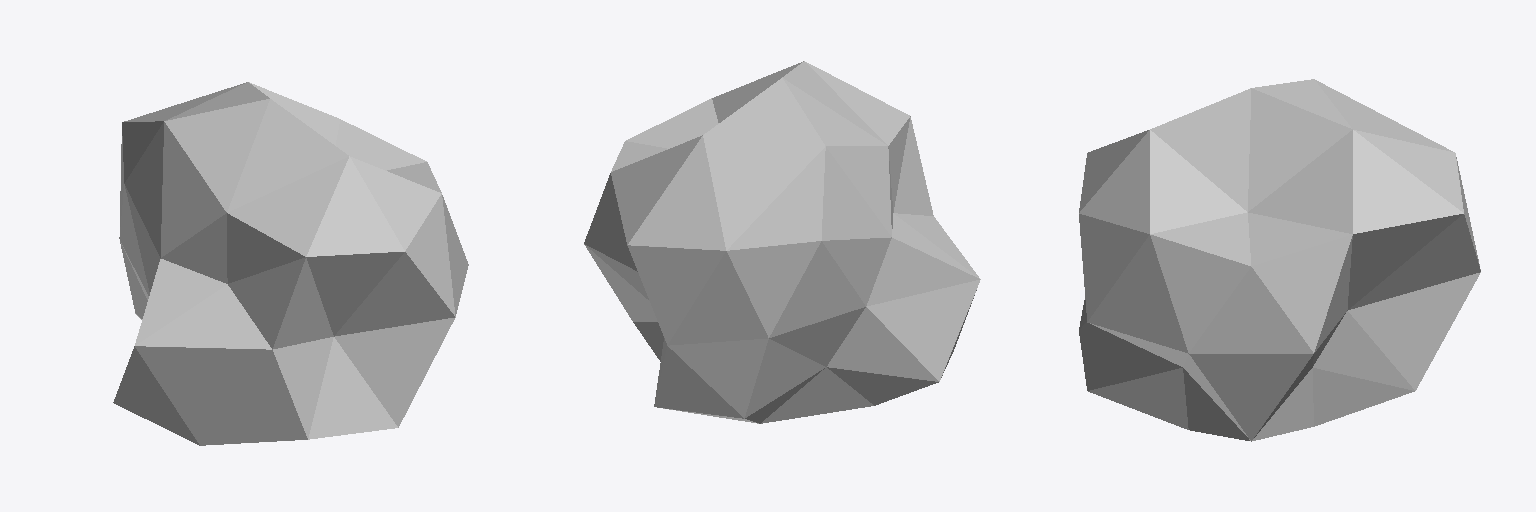
Rendered from SmokeBlob.obj.
3 views of the same model, side by side, from view 1: azimuth 30°, elevation 25°; view 2: azimuth 150°, elevation 25°; view 3: azimuth 270°, elevation 25° (orthographic).
Parts seen in each view (by area): view 1: SmokeBlob_Icosphere; view 2: SmokeBlob_Icosphere; view 3: SmokeBlob_Icosphere.
Part boxes in pixels (x1,y1,x2,y2): SmokeBlob_Icosphere: (113, 82, 468, 445); SmokeBlob_Icosphere: (584, 61, 980, 423); SmokeBlob_Icosphere: (1079, 79, 1480, 441).
Size of the model in its own units: 0.7178 by 0.6891 by 0.7483.